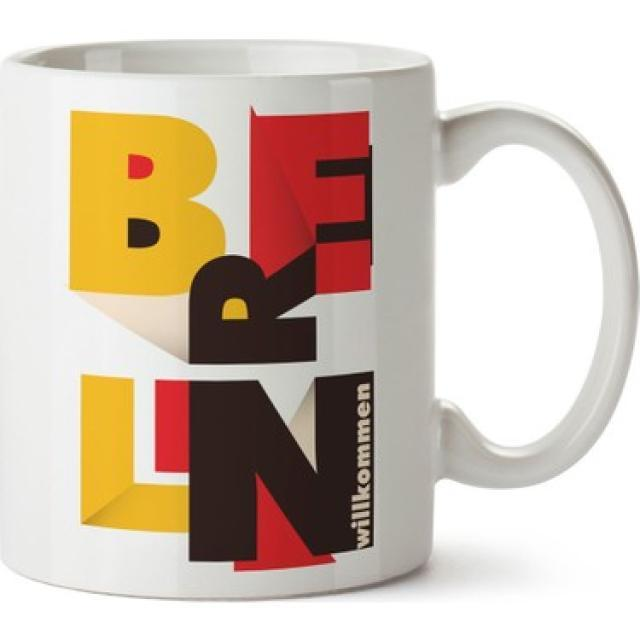Coffee Mug: (1, 37, 640, 604)
